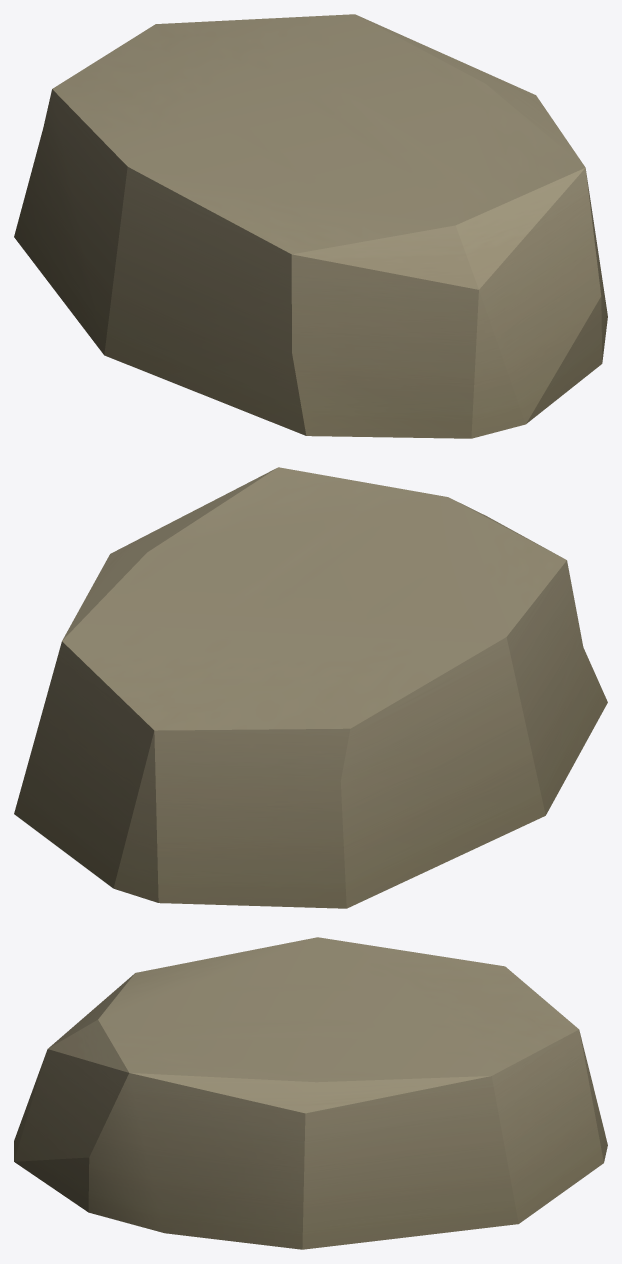
File: Rock_mid_02.fbx
The picture shows the model from 3 angles, top to bottom: view 1: azimuth 30°, elevation 25°; view 2: azimuth 150°, elevation 25°; view 3: azimuth 270°, elevation 25°; orthographic projection. The views are drawn at different scales.
Visible parts, largest first — view 1: Rock_mid_02; view 2: Rock_mid_02; view 3: Rock_mid_02.
Boxes of the visible parts, <box> form: Rock_mid_02: <box>14,14,607,438</box>; Rock_mid_02: <box>14,467,607,908</box>; Rock_mid_02: <box>14,937,607,1249</box>.
Bounding box in the file's own units: 143 × 53.12 × 199.
